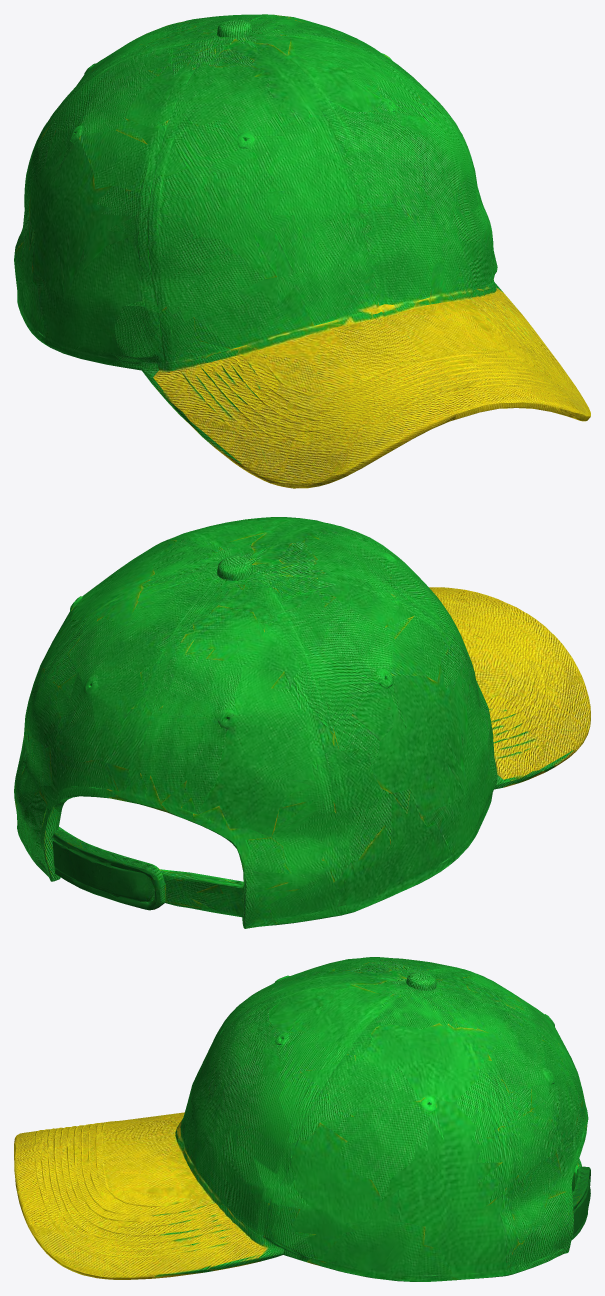
The model's file is mk_cap_gy2.glb.
The picture shows the model from 3 angles, top to bottom: view 1: azimuth 30°, elevation 25°; view 2: azimuth 150°, elevation 25°; view 3: azimuth 270°, elevation 25°; orthographic projection. The views are drawn at different scales.
Bounding box in the file's own units: 1.31 × 0.8673 × 1.9.
1 material, 1 textured.
